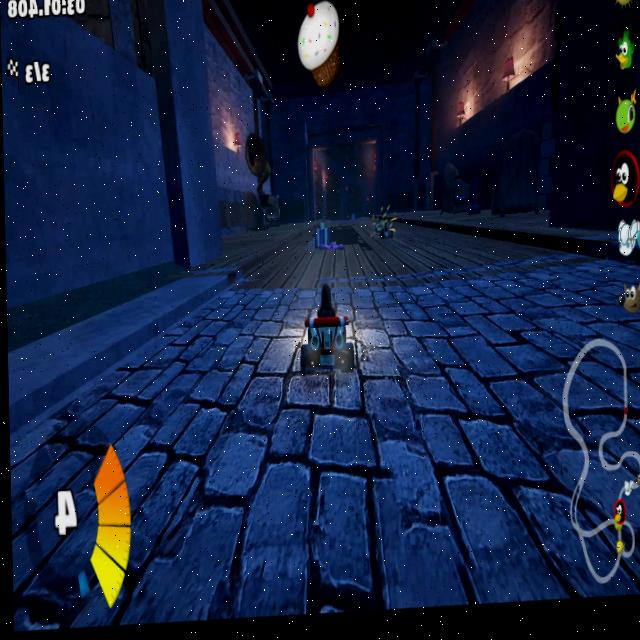bonus: (315, 219, 328, 247)
enemy_kart: (377, 213, 394, 244)
player_kart: (293, 273, 358, 397)
track: (356, 260, 640, 611), (8, 362, 198, 629), (192, 270, 297, 613), (293, 399, 362, 621), (396, 228, 524, 272), (291, 241, 396, 280), (244, 248, 291, 272), (360, 209, 372, 239)
